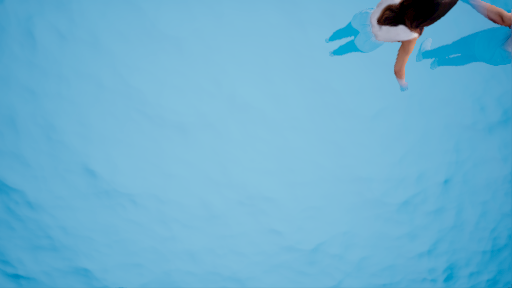person: (331, 1, 446, 92)
